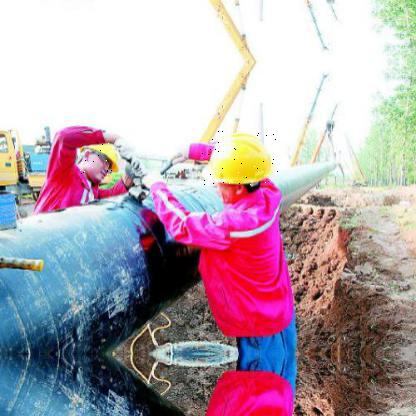safetyhelmet: (202, 130, 280, 186), (76, 138, 121, 176)
